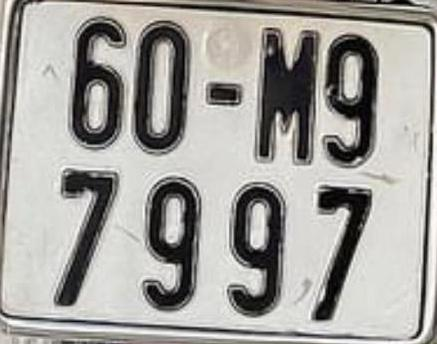-: (207, 84, 240, 105)
0: (134, 23, 188, 154)
6: (71, 16, 122, 149)
7: (315, 186, 372, 322), (58, 170, 114, 308)
9: (231, 182, 284, 316), (146, 178, 198, 311), (324, 38, 375, 167)
M: (257, 28, 313, 163)
